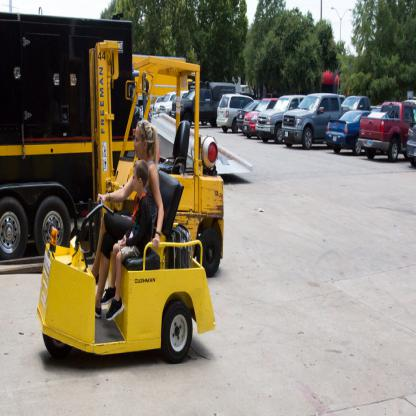Car: (139, 90, 415, 168)
Truck: (0, 7, 134, 258), (358, 101, 415, 162)
